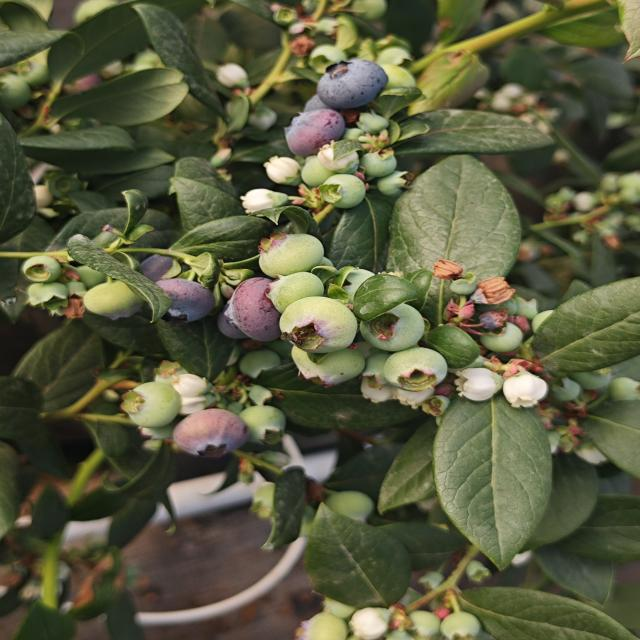ripe: (227, 270, 300, 352), (136, 256, 211, 322), (312, 60, 397, 107), (280, 112, 346, 147)
